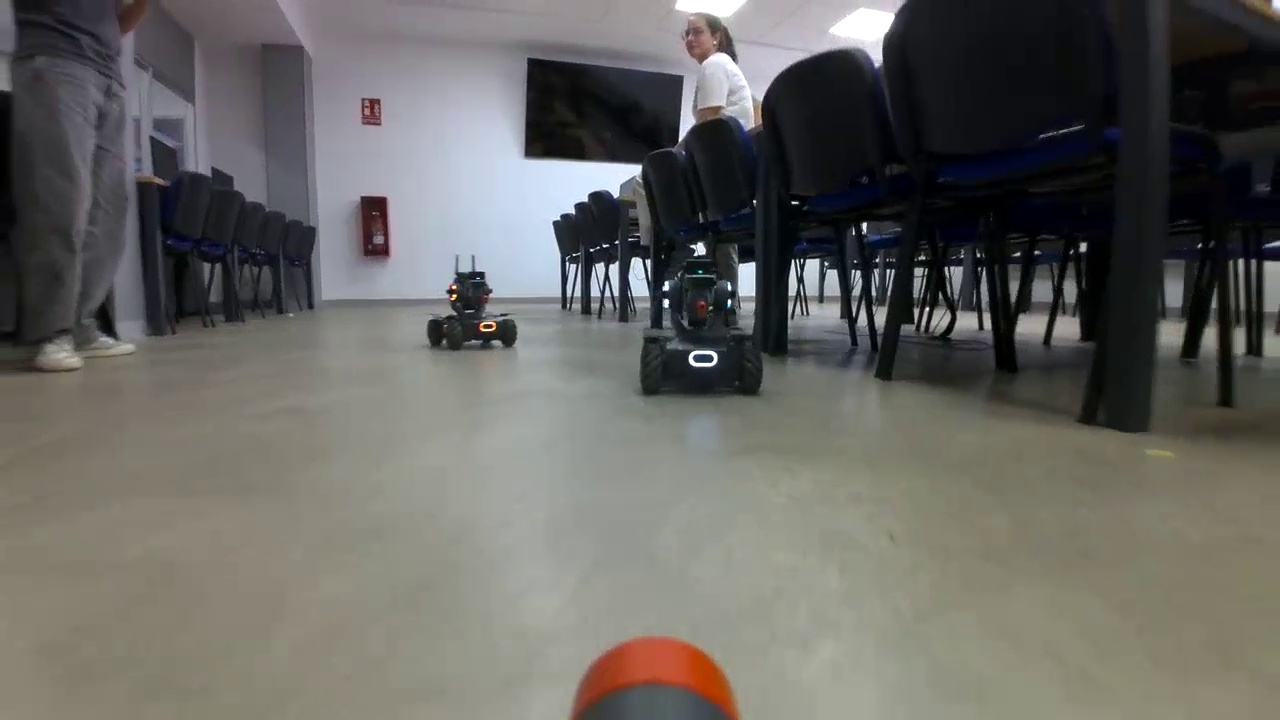robot: (640, 259, 764, 398), (427, 270, 520, 352)
